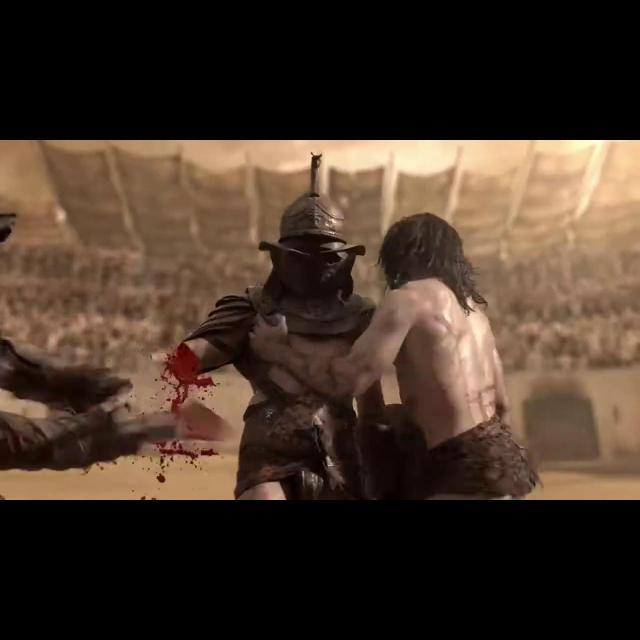blood: (160, 342, 214, 412), (154, 440, 218, 483)
